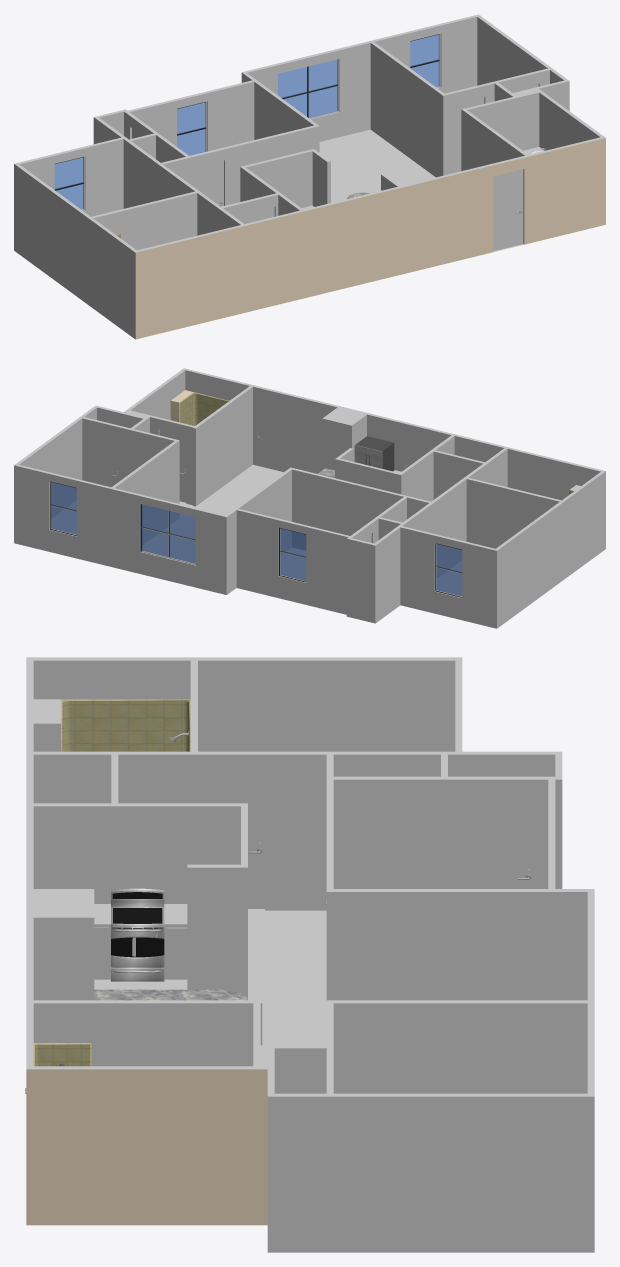
Rendered from 3+bedroom.glb.
3 renders of one model, top to bottom at view 1: azimuth 30°, elevation 25°; view 2: azimuth 150°, elevation 25°; view 3: azimuth 270°, elevation 25°, orthographic. The views are drawn at different scales.
Visible parts, largest first — view 1: _(Loose Entity), C-Component#10, C-small window.002, C-small window, C-small window.001; view 2: _(Loose Entity), C-Component#10, C-small window.001, C-small window, C-small window.002, C-Shower, G-Object.022; view 3: _(Loose Entity), C-Shower.001, G-Object.018, G-Object.015, C-Shower.
Boxes of the visible parts, x1,y1,x2,y2 form: _(Loose Entity): [14, 14, 605, 339]; C-Component#10: [277, 58, 339, 119]; C-small window.002: [176, 101, 207, 155]; C-small window: [410, 33, 441, 88]; C-small window.001: [54, 156, 85, 210]; _(Loose Entity): [14, 368, 605, 628]; C-Component#10: [140, 503, 195, 565]; C-small window.001: [434, 543, 462, 598]; C-small window: [49, 481, 77, 536]; C-small window.002: [278, 527, 306, 582]; C-Shower: [179, 392, 228, 425]; G-Object.022: [355, 436, 394, 471]; _(Loose Entity): [26, 657, 594, 1252]; C-Shower.001: [61, 699, 190, 751]; G-Object.018: [111, 926, 164, 967]; G-Object.015: [111, 900, 164, 926]; C-Shower: [33, 1043, 91, 1066].
Size of the model in its own units: 14.77 by 2.46 by 8.09.
25 materials, 9 textured.
